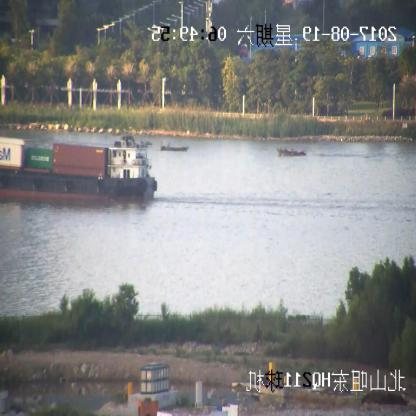Container Ship: (0, 139, 158, 205)
